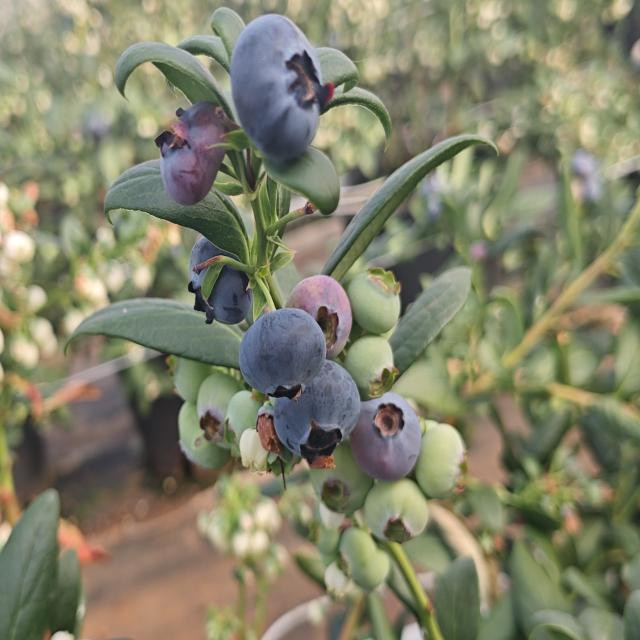ripe: (236, 304, 362, 462), (227, 12, 336, 170), (153, 99, 233, 209), (237, 306, 328, 402), (348, 391, 423, 483), (186, 234, 255, 328), (287, 265, 352, 351)
